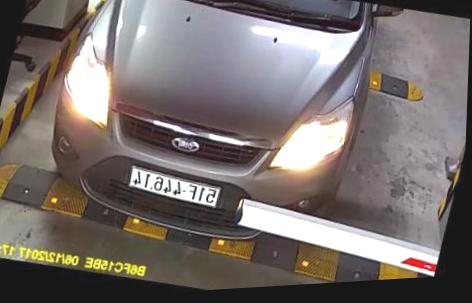License_Plate: (117, 158, 236, 222)
